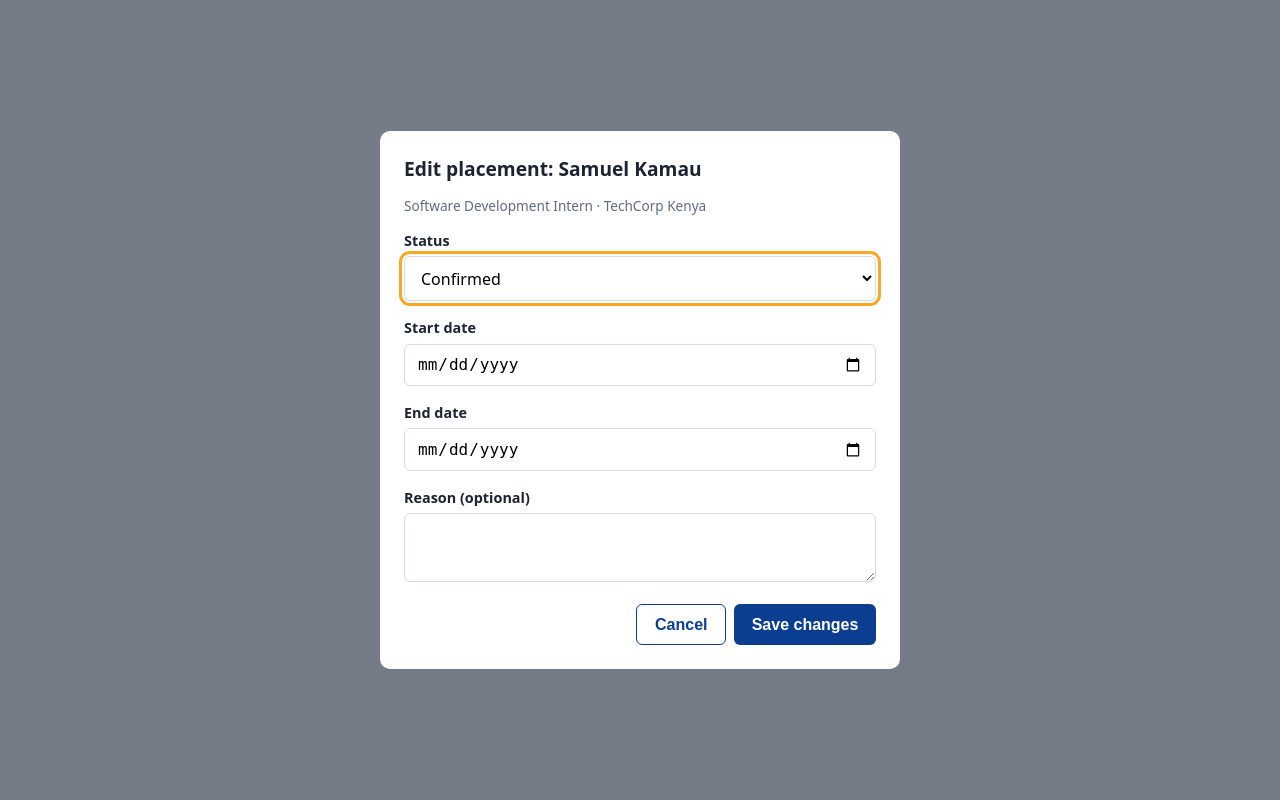
Test case: blocks an end date before the start date, and ongoing without a start date
Select "Ongoing" in the dropdown labelled "Status": coordinates (640, 279) [404, 256, 876, 301]
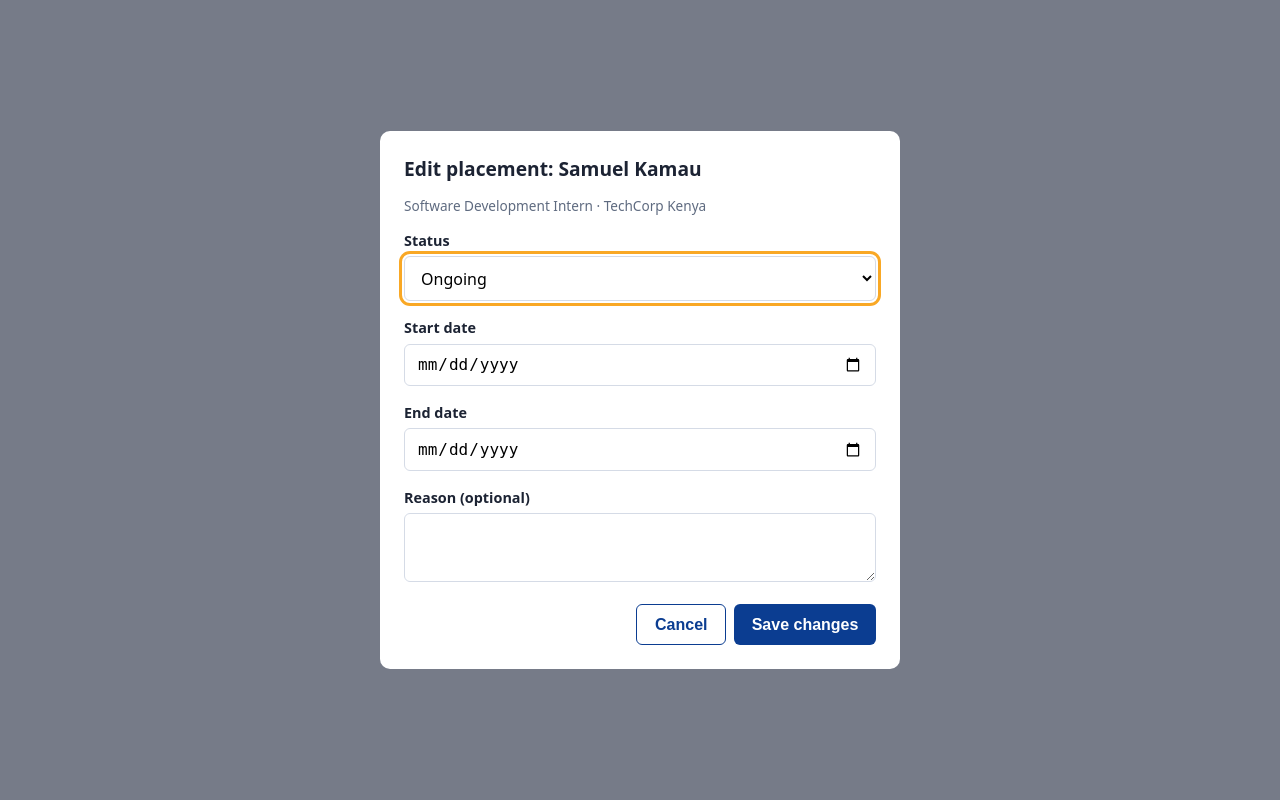
Click the button "Save changes": coordinates (805, 625) [734, 604, 876, 645]
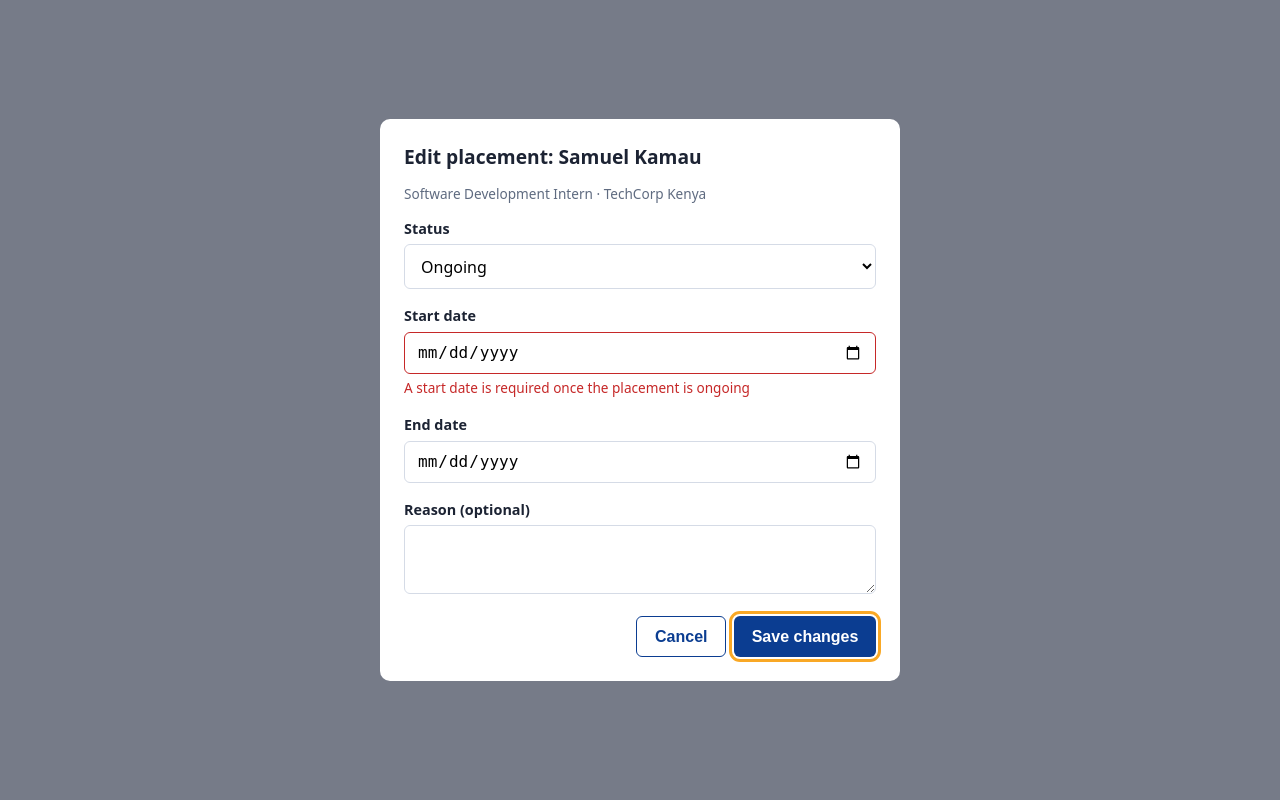
Result: the text "A start date is required once the placement is ongoing" is shown at [404, 378, 750, 397]
In the date field labelled "Start date": coordinates (640, 353) [404, 332, 876, 374], type "2027-02-01"
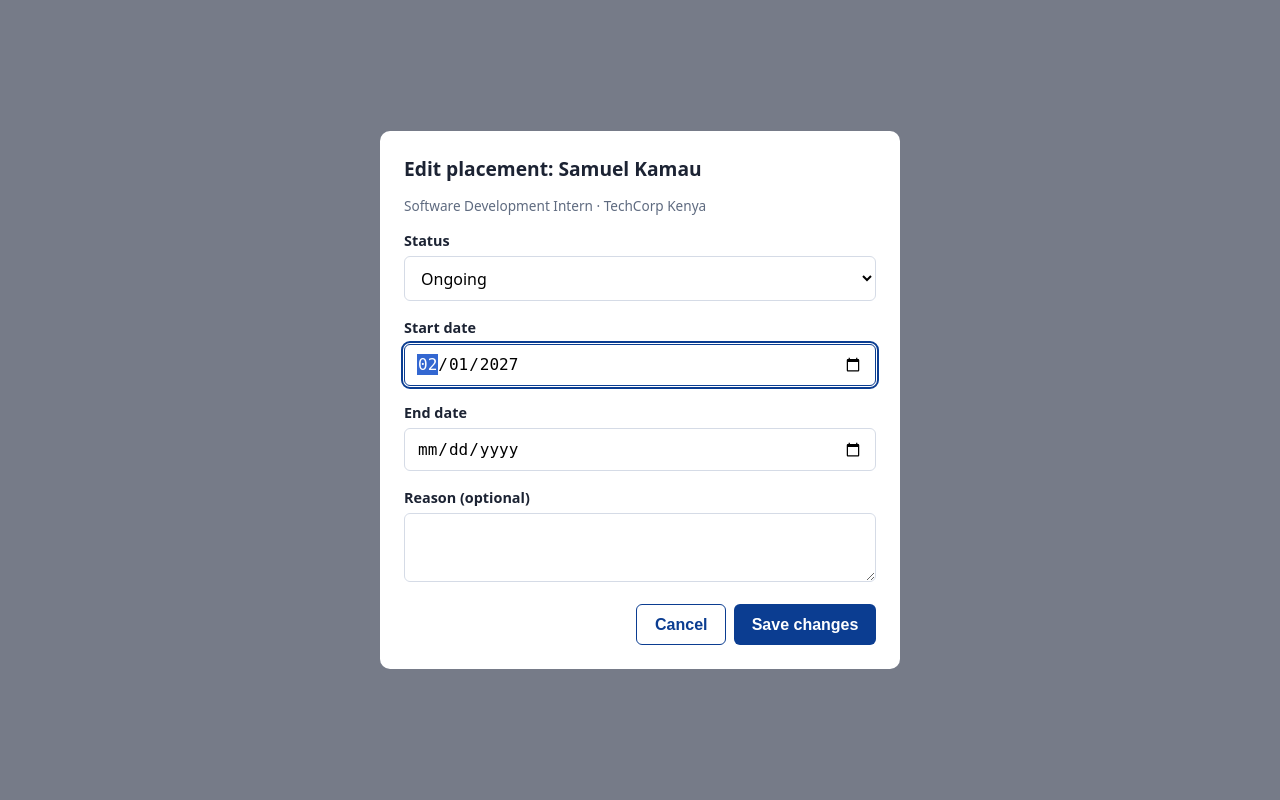
In the date field labelled "End date": coordinates (640, 450) [404, 428, 876, 471], type "2027-01-01"
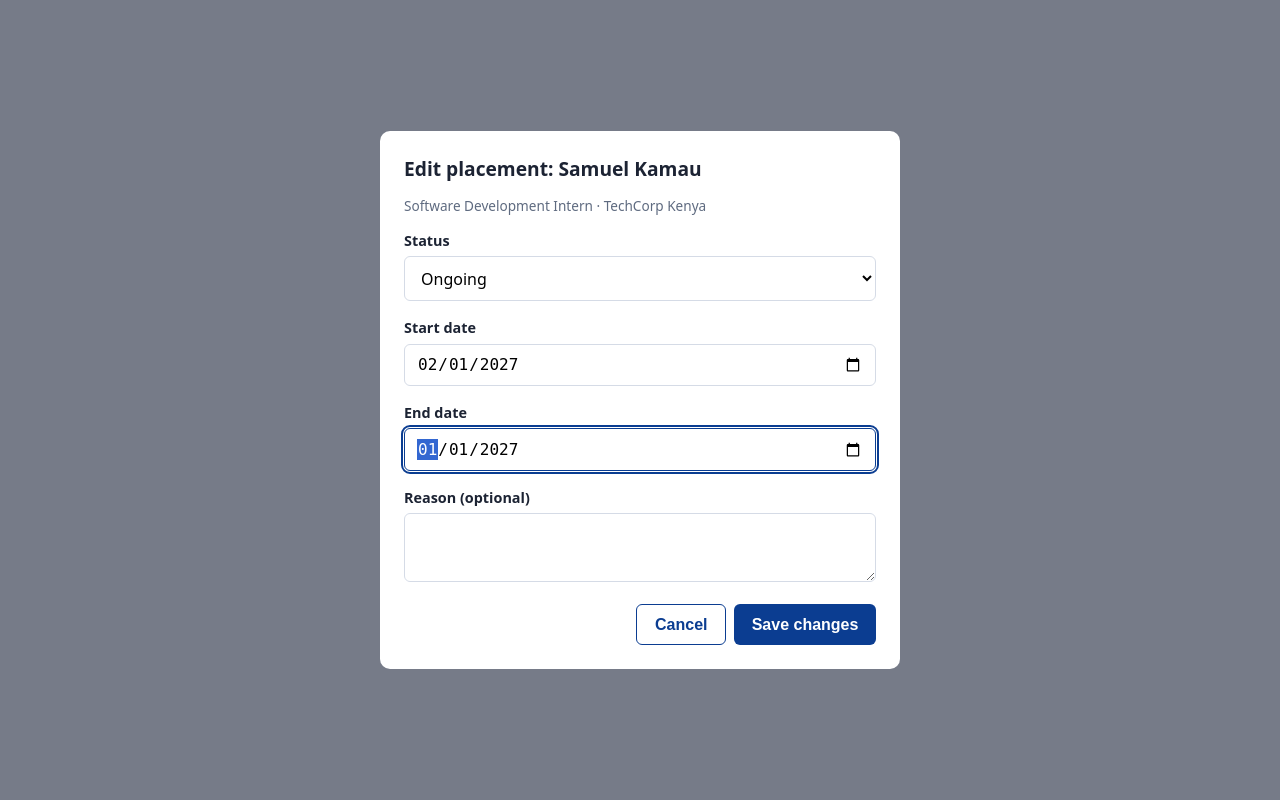
Click the button "Save changes": coordinates (805, 625) [734, 604, 876, 645]
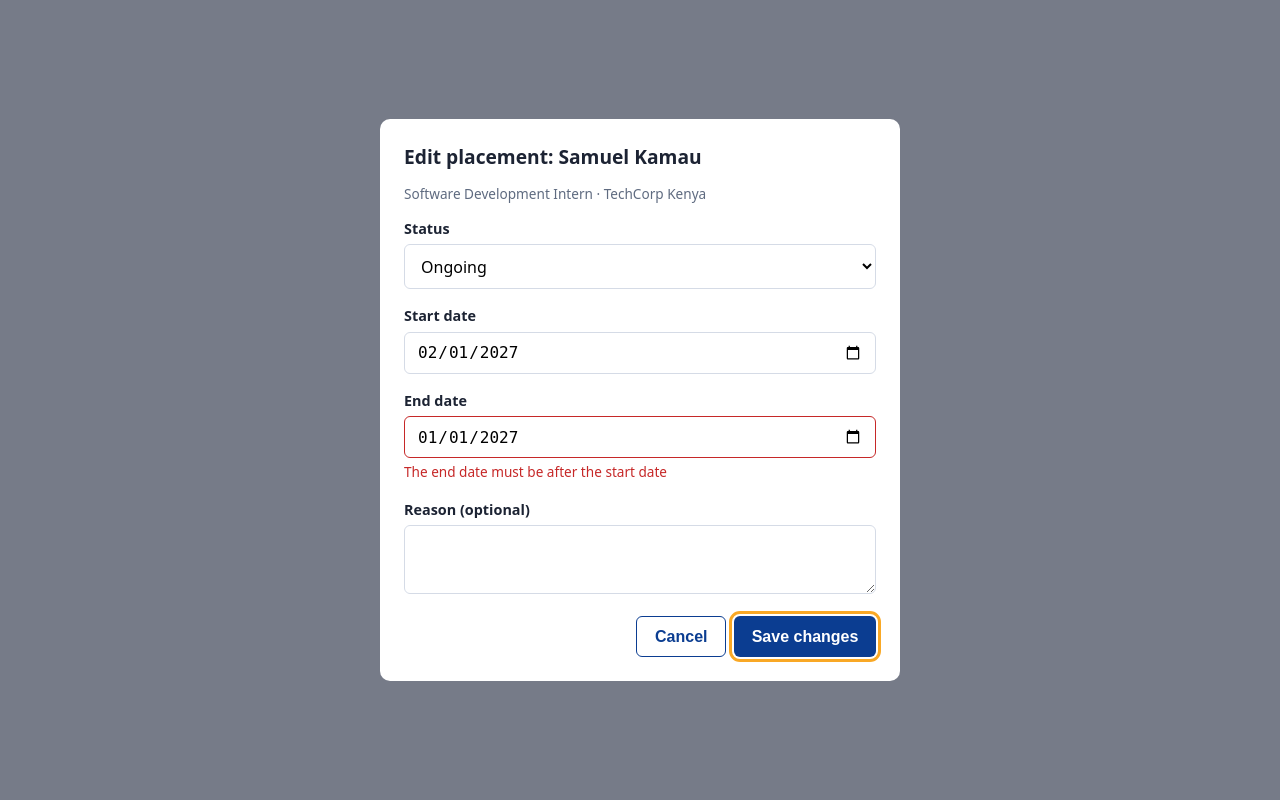
Result: the text "The end date must be after the start date" is shown at [404, 462, 667, 481]
